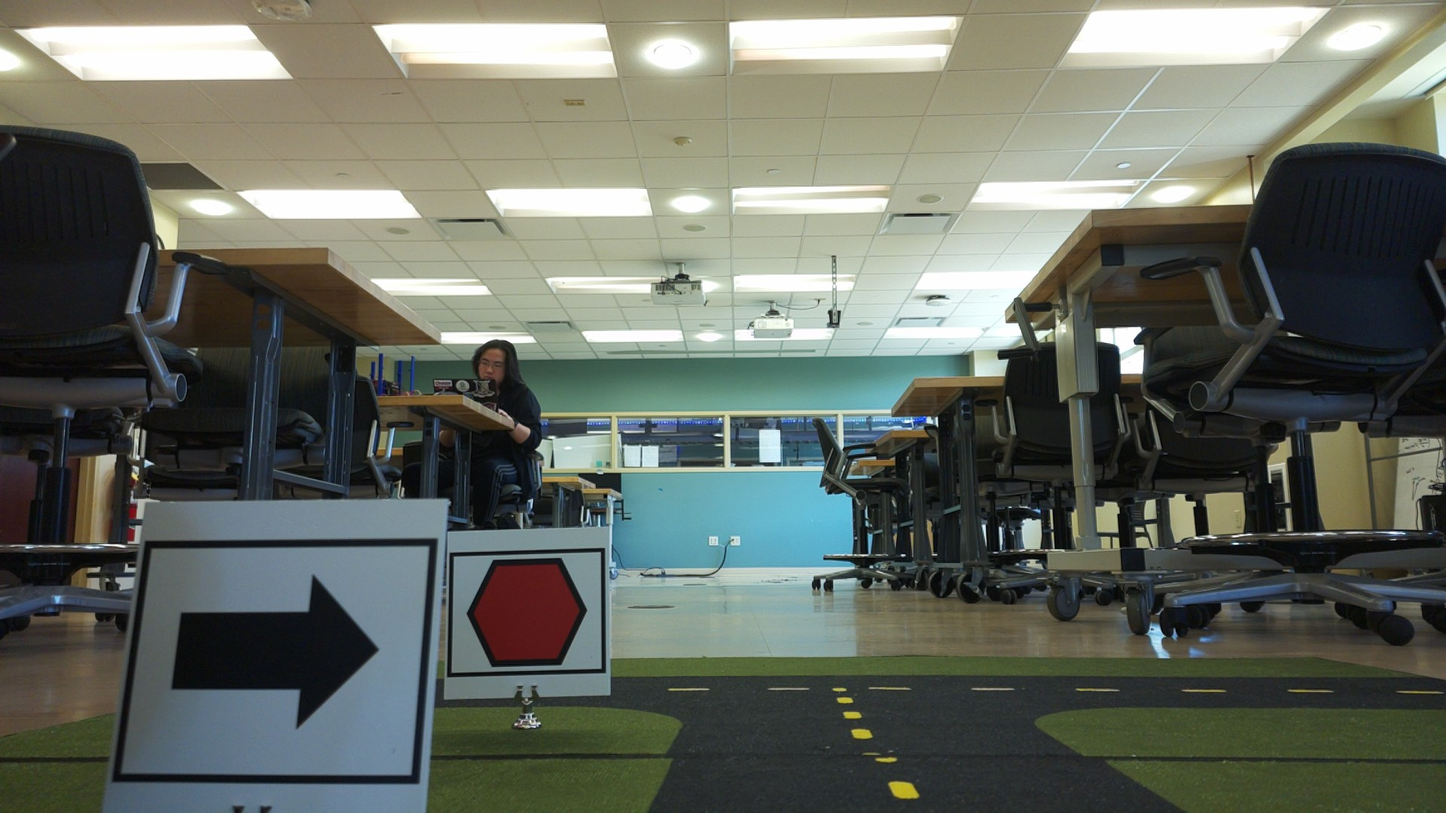stop: (454, 553, 600, 675)
turnright: (140, 547, 423, 781)
yellowline: (838, 694, 917, 800)
